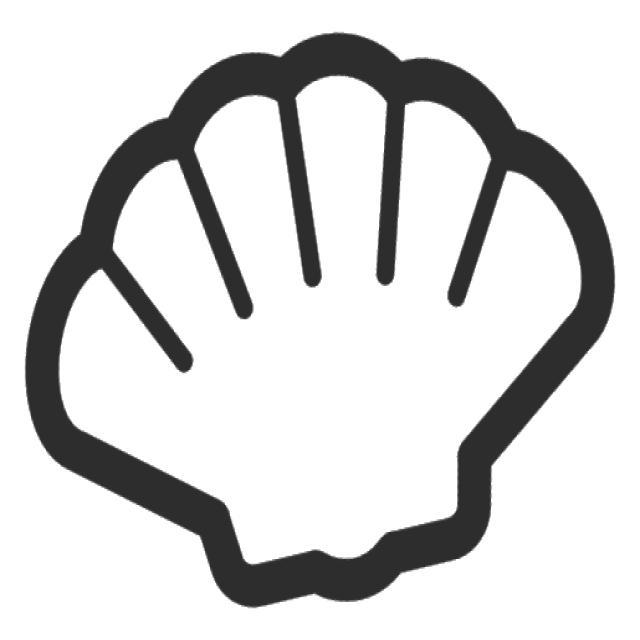shell: (13, 23, 630, 627)
